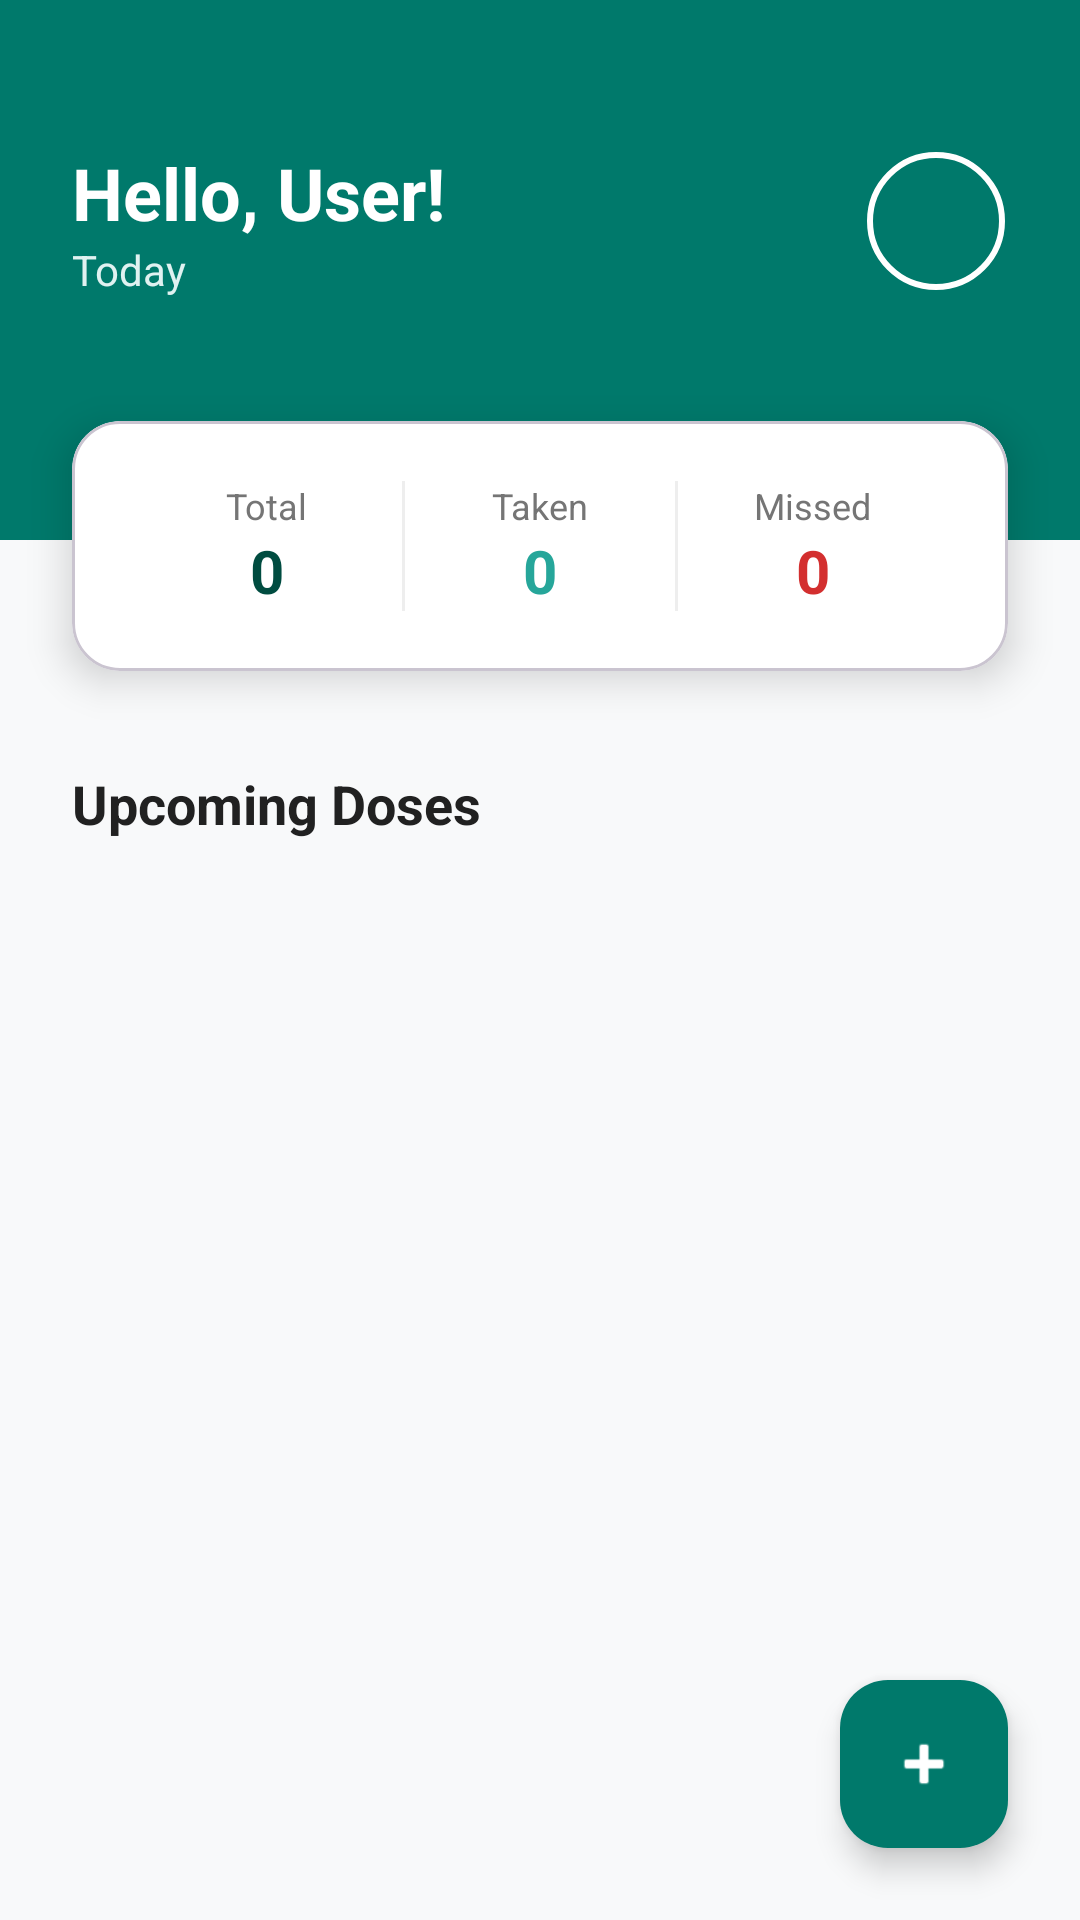

Where icons sit on this 1080px x 1920px app screen, as bbox=[x1, y1, x2, y2]:
Add Medication: bbox=[840, 1680, 1008, 1848]
